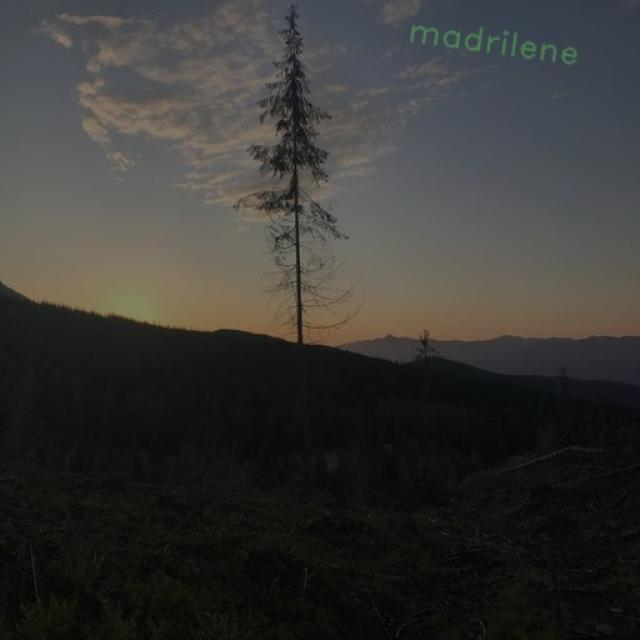watermark: (398, 15, 601, 70)
